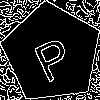P: (27, 28, 77, 84)
